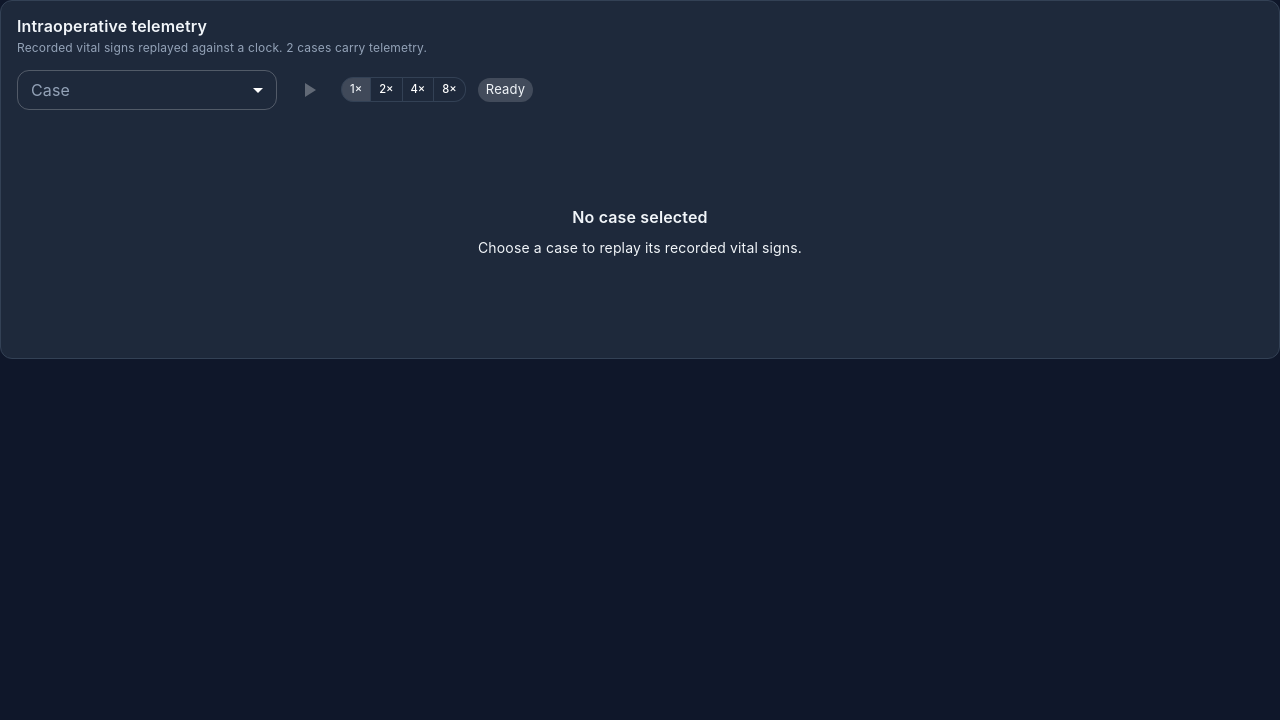
Test: TelemetryPanel › offers every case in the index, labelled with its context
Expected: the text "2 cases carry telemetry" is shown, x1=17 y1=40 x2=427 y2=55
Click the dropdown named "Case": coordinates (147, 90) x1=17 y1=70 x2=277 y2=110
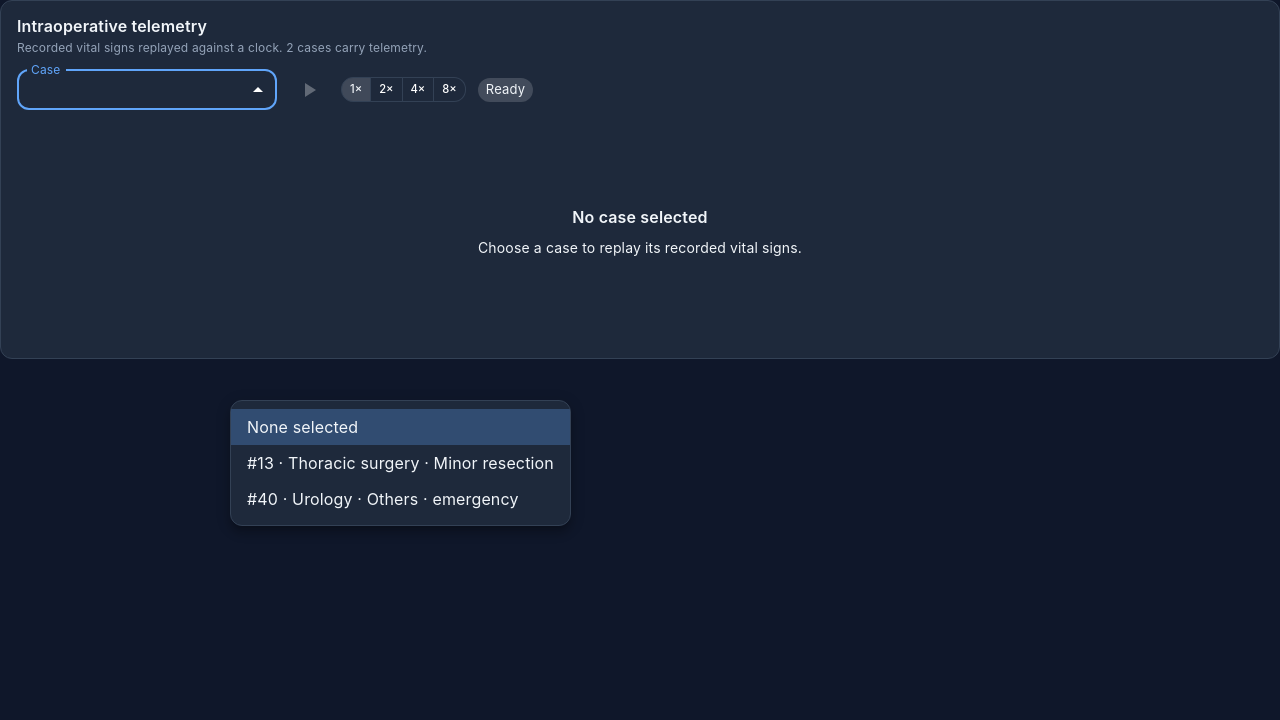
Now the option "#13 · Thoracic surgery · Minor resection" is shown, box x1=247 y1=453 x2=554 y2=473
Now the option "#40 · Urology · Others · emergency" is shown, box x1=247 y1=489 x2=519 y2=509
